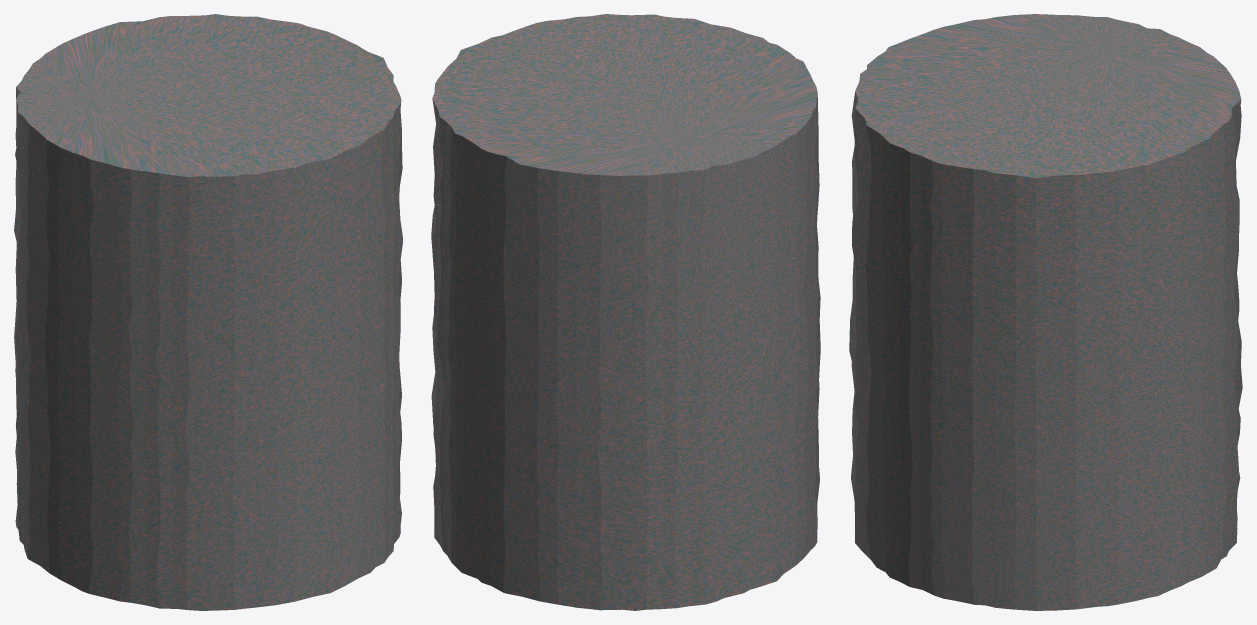
The model's file is barrel_52.dae.
The picture shows the model from 3 angles, left to right: view 1: azimuth 30°, elevation 25°; view 2: azimuth 150°, elevation 25°; view 3: azimuth 270°, elevation 25°; orthographic projection.
Parts seen in each view (by area): view 1: Cylinder; view 2: Cylinder; view 3: Cylinder.
Boxes of the visible parts, x1,y1,x2,y2 form: Cylinder: (14, 14, 402, 610); Cylinder: (431, 14, 820, 610); Cylinder: (849, 14, 1242, 610).
Size of the model in its own units: 0.816 by 0.8206 by 1.
Materials: 1 (1 with a texture image).
